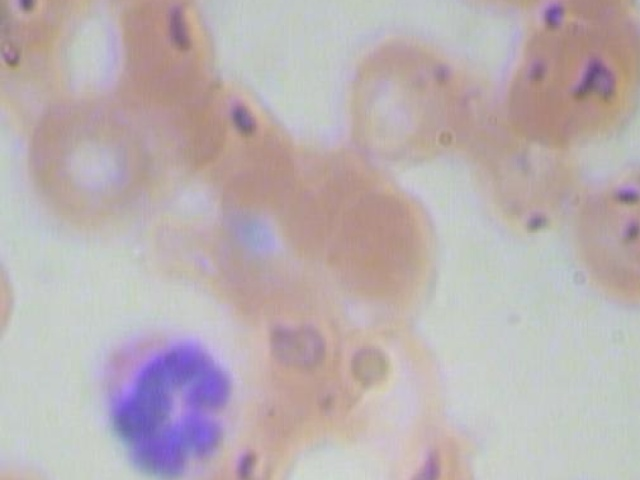RBC: (14, 88, 164, 236), (502, 10, 640, 150), (339, 28, 464, 171), (324, 184, 444, 323), (96, 0, 225, 121), (559, 162, 640, 305), (383, 419, 496, 480), (0, 222, 22, 365), (447, 0, 561, 16)
WBC: (83, 312, 246, 480)
